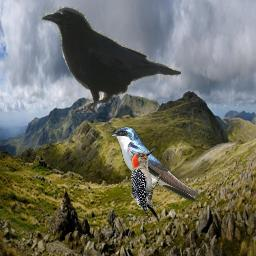Crow: (37, 4, 181, 113)
Swallow: (111, 127, 201, 202)
Woodpecker: (128, 147, 161, 227)
